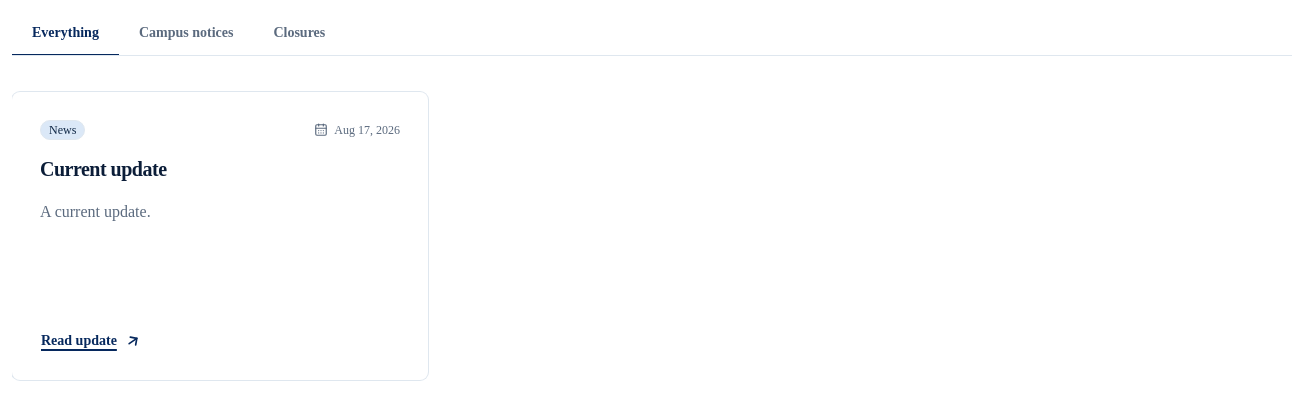
Test: News & Events Tabs › renders relationship titles and order while keeping All first
This screenshot has width=1292, height=398.
What coordinates should you click on to do the following:
click the tab "Campus notices"
I would click on:
 (186, 34)
Its box is [119, 12, 253, 56].
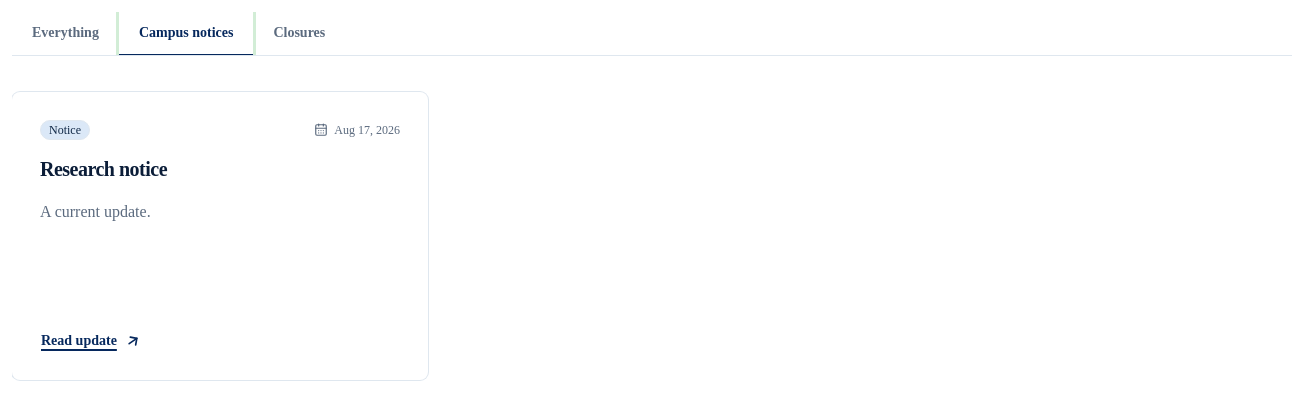
Expected: the panel shows "Research notice", [40, 158, 167, 180]
